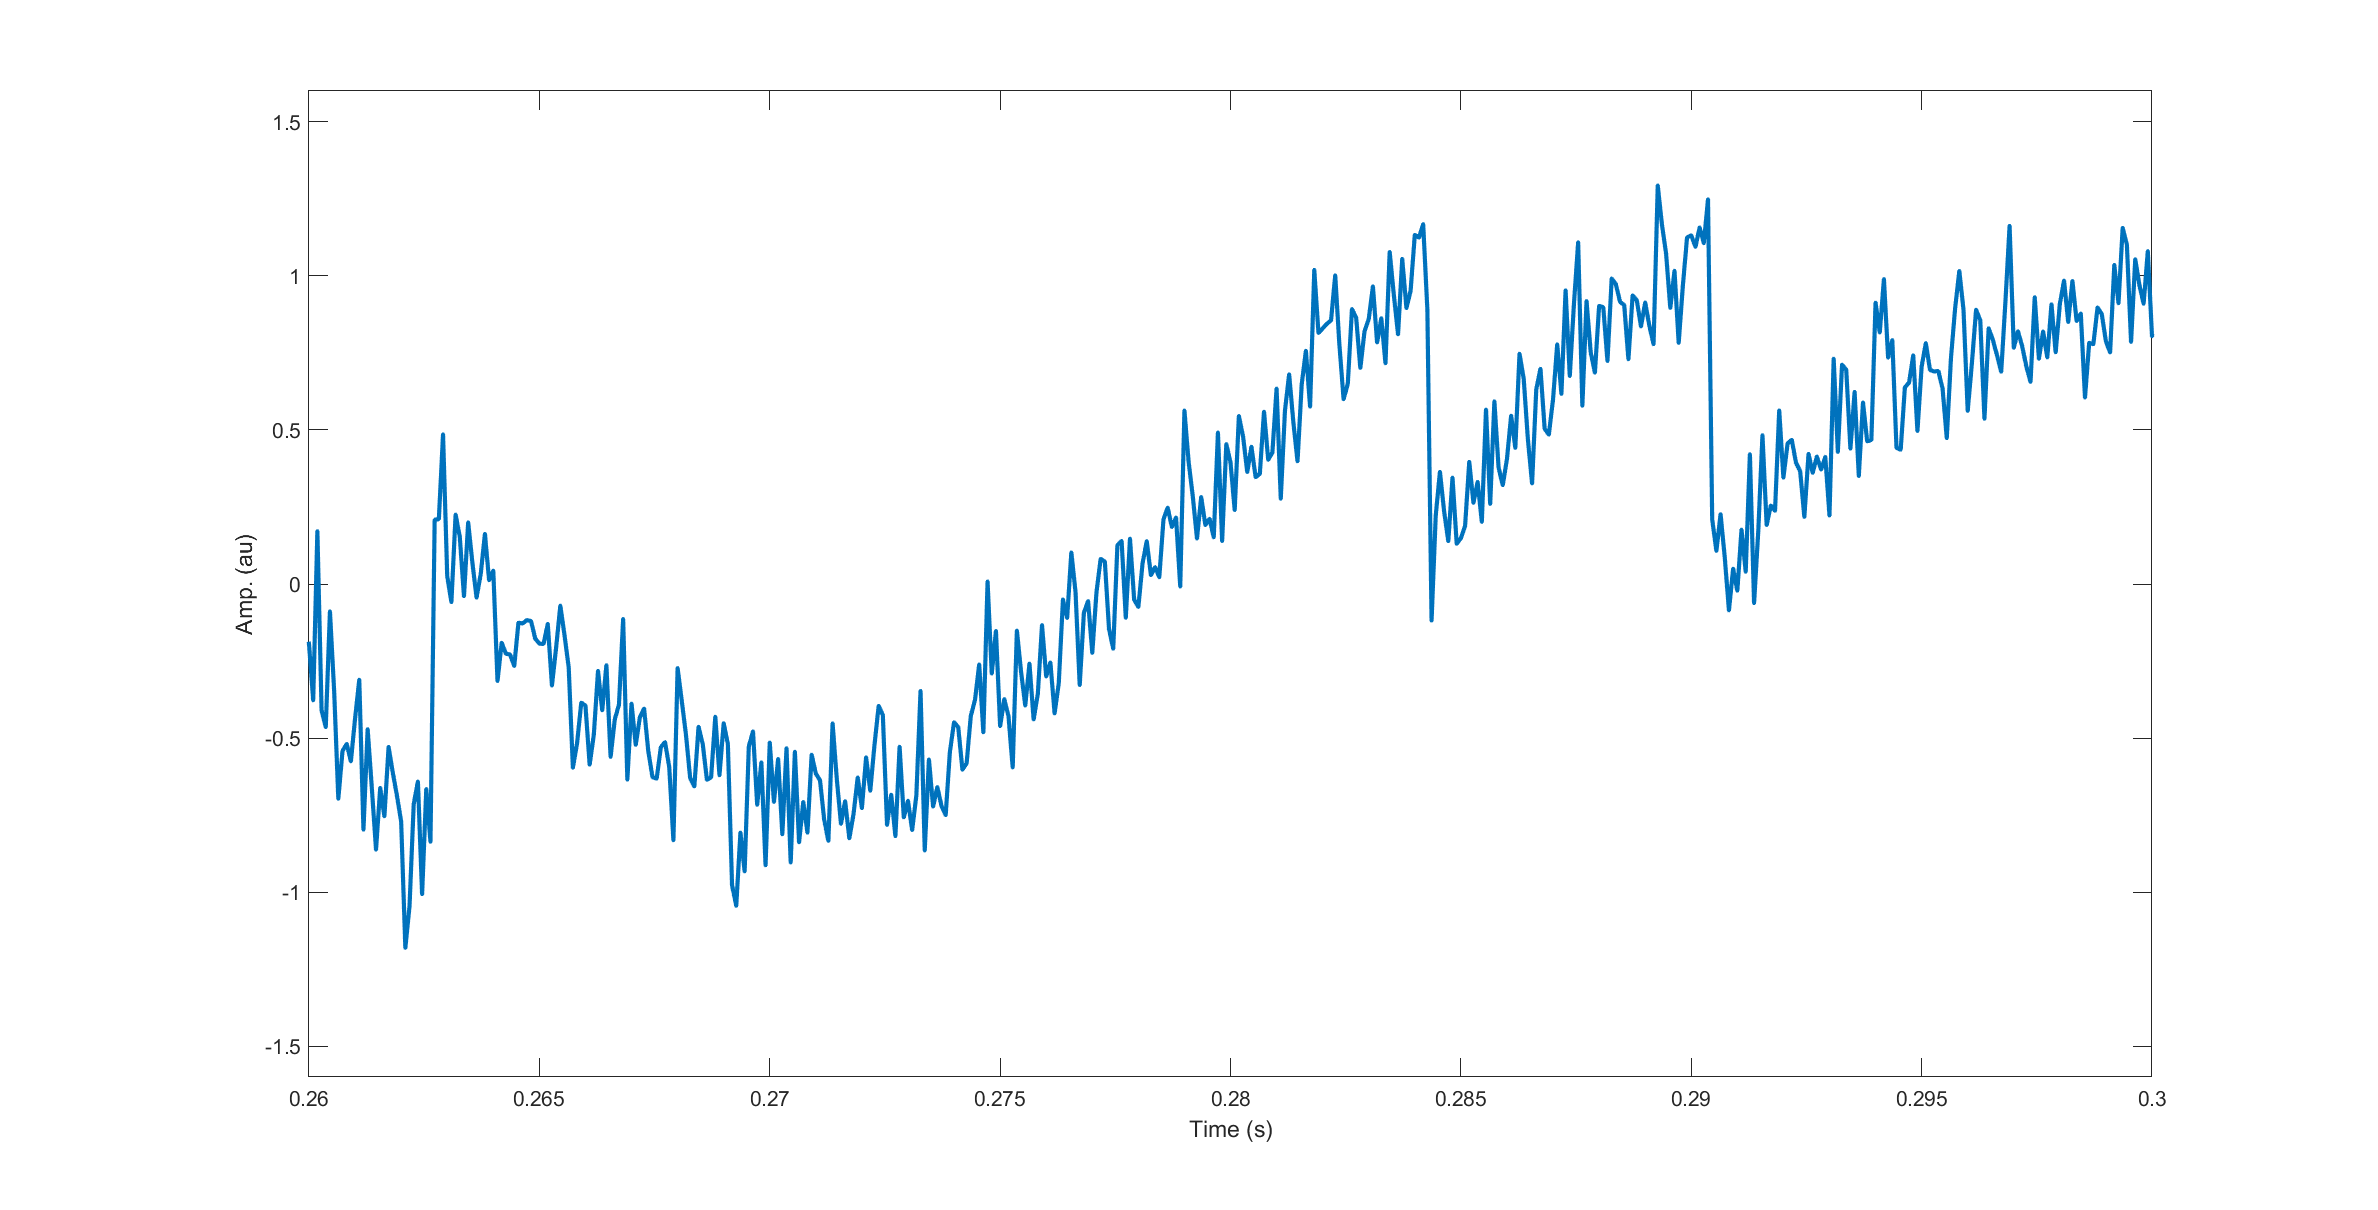negative_fringe: (421, 424, 660, 906)
positive_fringe: (1444, 165, 1731, 599), (1235, 199, 1441, 627)
